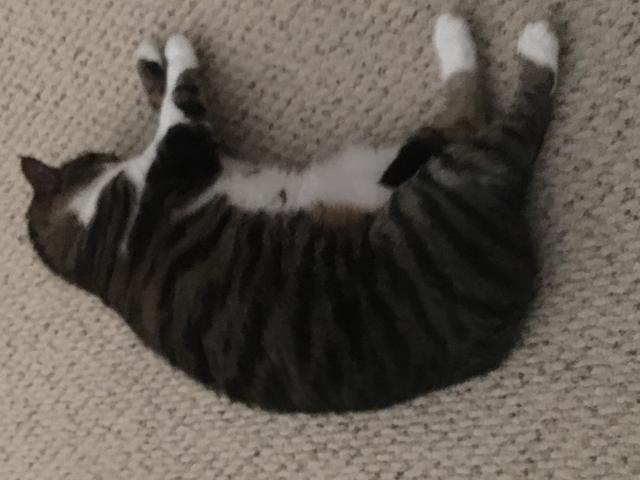playdoh: (19, 14, 558, 418)
